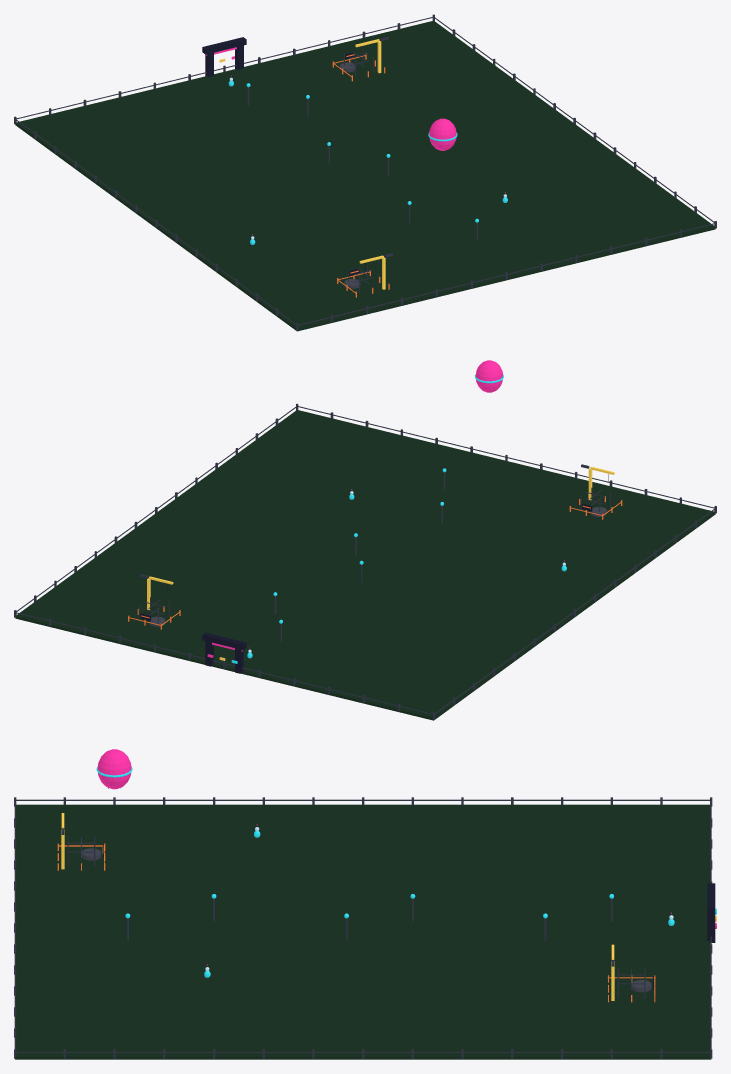
The model's file is ground-transformed.glb.
3 renders of one model, top to bottom at view 1: azimuth 30°, elevation 25°; view 2: azimuth 150°, elevation 25°; view 3: azimuth 270°, elevation 25°, orthographic. The views are drawn at different scales.
Parts seen in each view (by area): view 1: park_lawn, park_metal, park_dark, park_neon_magenta; view 2: park_lawn, park_metal, park_dark, park_neon_magenta; view 3: park_lawn, park_metal, park_neon_magenta, park_dark.
Boxes of the visible parts, x1,y1,x2,y2 form: park_lawn: (15,21,715,331); park_metal: (14,14,716,330); park_dark: (202,37,365,276); park_neon_magenta: (206,47,505,234); park_lawn: (15,410,715,720); park_metal: (14,403,716,719); park_dark: (140,392,608,673); park_neon_magenta: (207,360,564,657); park_lawn: (15,804,711,1059); park_metal: (14,797,712,1058); park_neon_magenta: (97,749,716,965); park_dark: (103,788,715,989).
Size of what is drawn, in the model's own units: 90.35 by 28.17 by 106.
